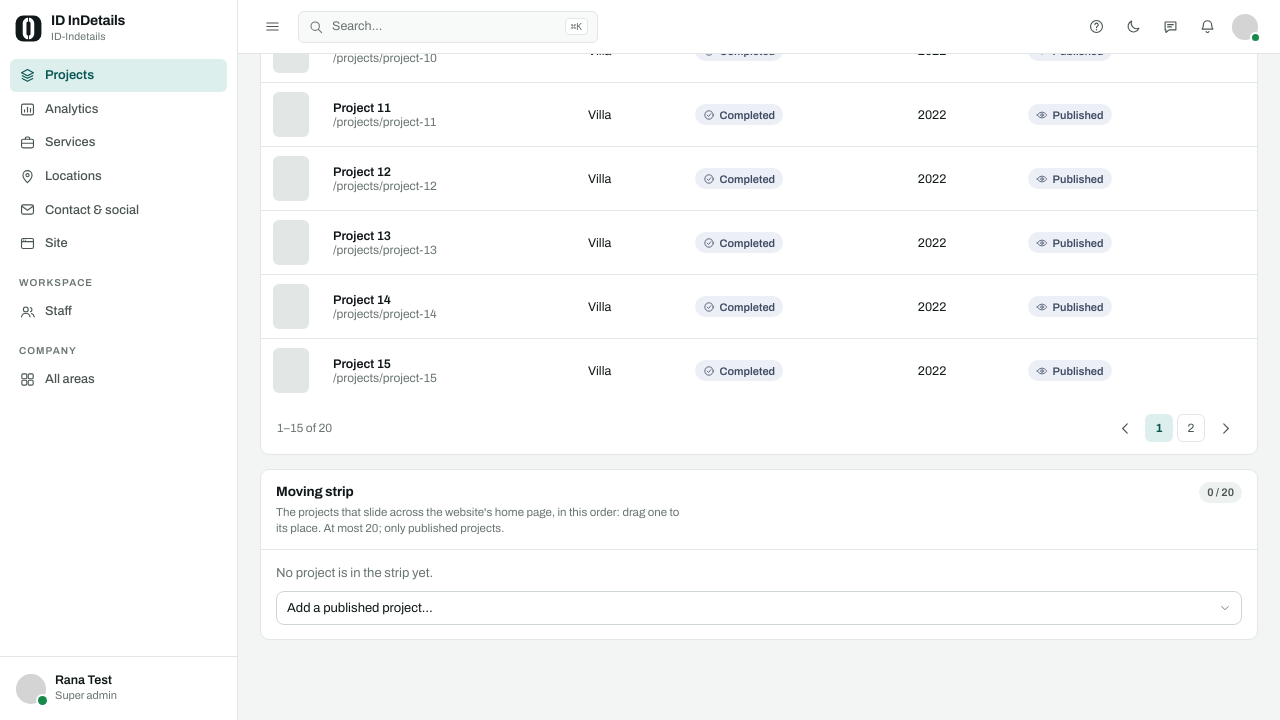
the Website page › shows the projects 15 to a page, above the moving strip
The image size is (1280, 720).
(page scrolled)
expect the text "Project 16" is not shown: met
Click the button named "Next page" at (1225, 428), box [1209,412,1241,444]
(page scrolled)
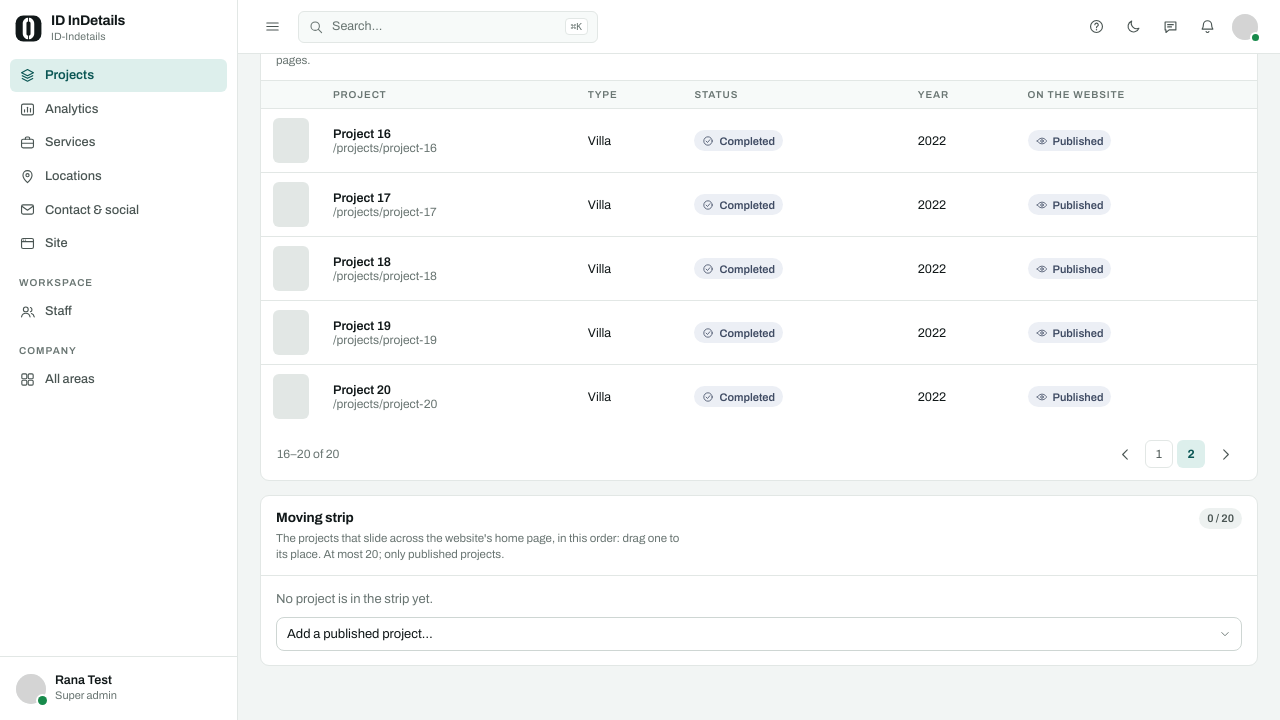
expect the number of rows is 6: met, box [261,81,1257,109]; [261,109,1257,173]; [261,173,1257,237]; [261,237,1257,301]; [261,301,1257,365]; [261,365,1257,428]
expect the text "Project 16" is shown: met, box [333,127,391,141]
